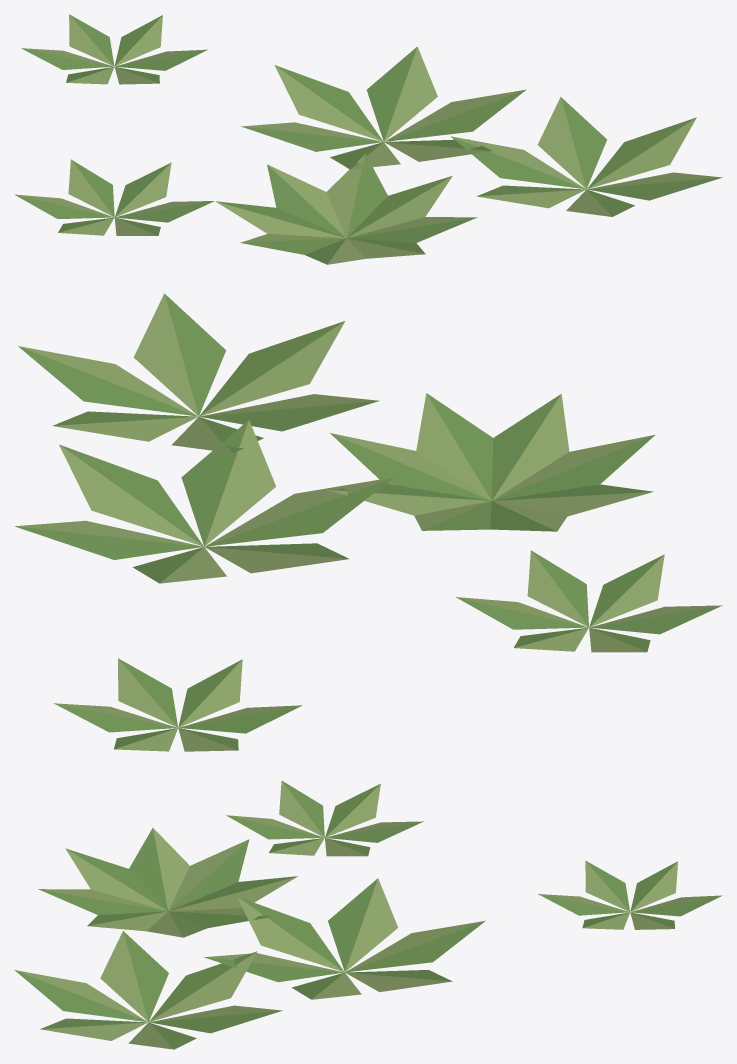
Rendered from Water Plant - Water Lettuce-D_txf-aA.glb.
The picture shows the model from 3 angles, top to bottom: view 1: azimuth 30°, elevation 25°; view 2: azimuth 150°, elevation 25°; view 3: azimuth 270°, elevation 25°; orthographic projection. The views are drawn at different scales.
Parts seen in each view (by area): view 1: body; view 2: body; view 3: body.
Boxes of the visible parts, bbox=[...] form: body: bbox=[15, 14, 722, 264]; body: bbox=[15, 293, 722, 751]; body: bbox=[14, 780, 722, 1049].
Size of the model in its own units: 0.6494 by 0.0361 by 0.6902.
